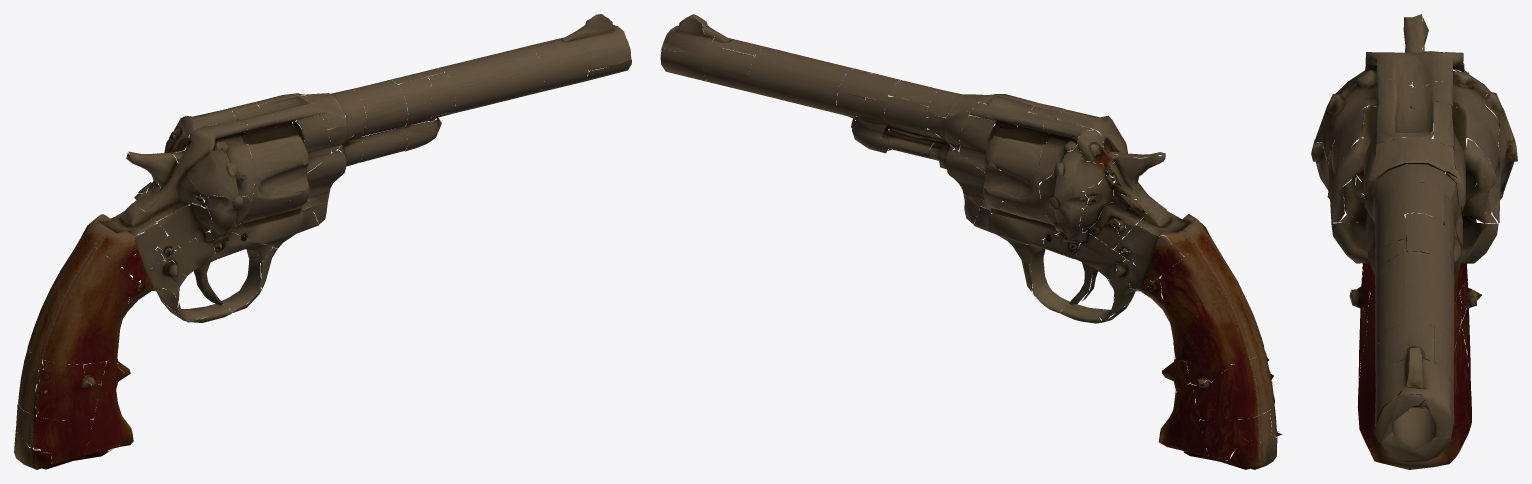
File: revolver_v2 3d model.glb
3 views of the same model, side by side, from view 1: azimuth 30°, elevation 25°; view 2: azimuth 150°, elevation 25°; view 3: azimuth 270°, elevation 25° (orthographic). The views are drawn at different scales.
Visible parts, largest first — view 1: tripo_node_77fca05c-80c9-4e8c-922d-7b7525fa23ab; view 2: tripo_node_77fca05c-80c9-4e8c-922d-7b7525fa23ab; view 3: tripo_node_77fca05c-80c9-4e8c-922d-7b7525fa23ab.
Part boxes in pixels (x1,y1,x2,y2): tripo_node_77fca05c-80c9-4e8c-922d-7b7525fa23ab: [14, 14, 631, 469]; tripo_node_77fca05c-80c9-4e8c-922d-7b7525fa23ab: [660, 14, 1282, 469]; tripo_node_77fca05c-80c9-4e8c-922d-7b7525fa23ab: [1311, 14, 1517, 469].
Bounding box in the file's own units: 0.9993 × 0.4953 × 0.1827.
1 material, 1 textured.
